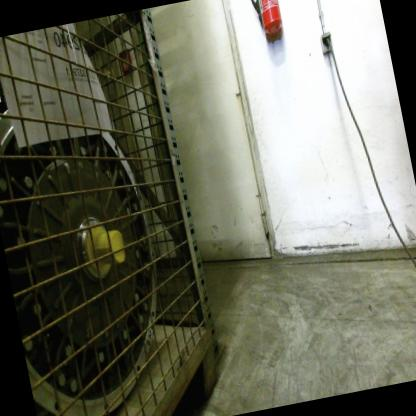stillage: (0, 9, 243, 416)
